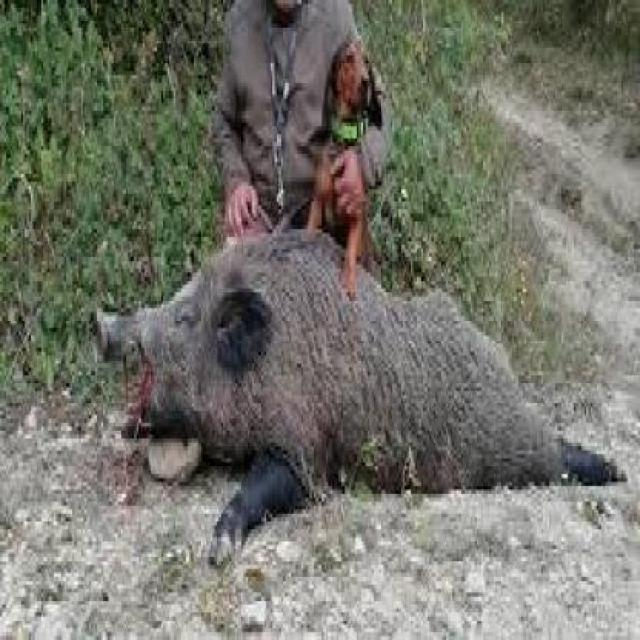Wild Boar: (85, 221, 627, 570)
